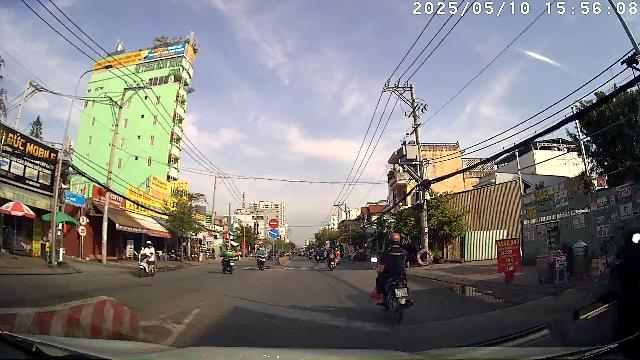102-cam-di-nguoc-chieu: (269, 218, 279, 228)
302a-huong-phai-di-vong-chuong-ngai-vat-1: (269, 228, 279, 238)
